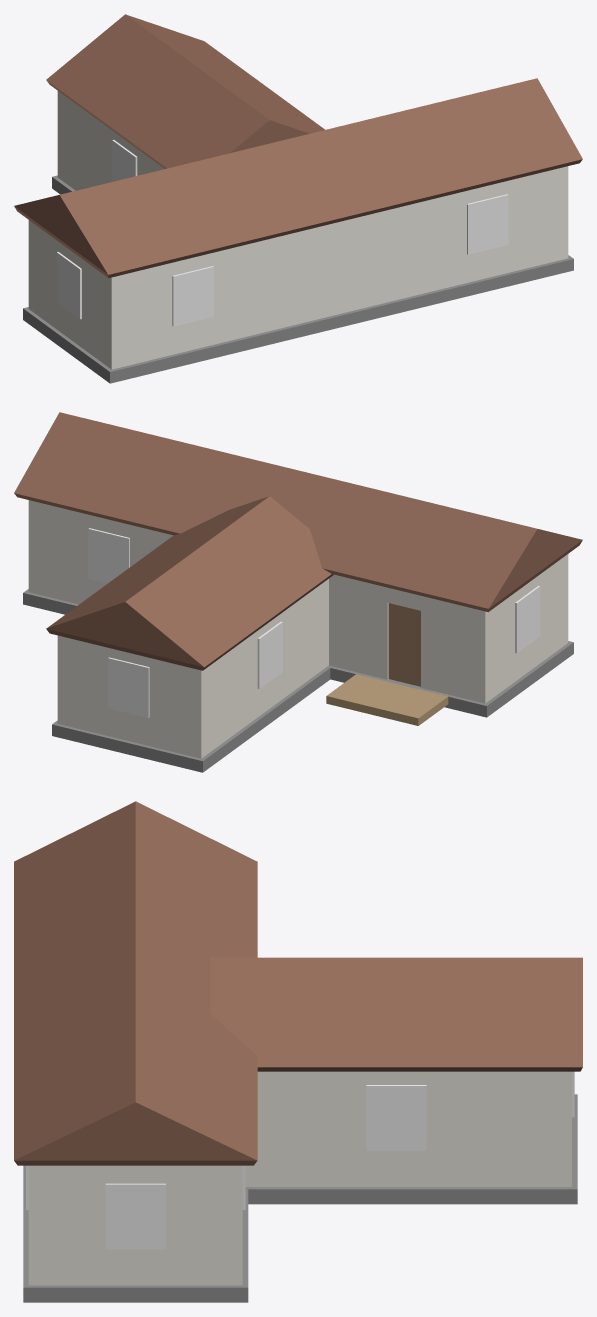
The model's file is t-shaped-model-one-floor.glb.
3 renders of one model, top to bottom at view 1: azimuth 30°, elevation 25°; view 2: azimuth 150°, elevation 25°; view 3: azimuth 270°, elevation 25°, orthographic. The views are drawn at different scales.
Parts seen in each view (by area): view 1: Roof_Horizontal, Back_Wall_Horizontal_F1, Roof_Vertical, Foundation_T_Shaped, Left_End_Horizontal_F1, Left_Wall_Vertical_F1, Window_Horiz_F1_Back_L_Frame, Window_Horiz_F1_Back_R_Frame, Window_Horiz_F1_Left_Frame, Window_Vert_F1_Left_Frame, Right_End_Horizontal_F1; view 2: Roof_Horizontal, Roof_Vertical, Front_Wall_Horizontal_F1, Left_Wall_Vertical_F1, End_Wall_Vertical_F1, Foundation_T_Shaped, Left_End_Horizontal_F1, Terrace, Door_Main, Window_Vert_F1_End_Frame, Window_Horiz_F1_Front_R_Frame, Window_Vert_F1_Left_Frame (+3 smaller); view 3: Roof_Horizontal, Roof_Vertical, Right_Wall_Vertical_F1, Right_End_Horizontal_F1, Foundation_T_Shaped, Window_Horiz_F1_Right_Frame, Window_Vert_F1_Right_Frame, End_Wall_Vertical_F1.
Part boxes in pixels (box(x1,y1,x2,y2)): Roof_Horizontal: box(14, 78, 582, 278); Back_Wall_Horizontal_F1: box(119, 168, 560, 367); Roof_Vertical: box(46, 14, 324, 168); Foundation_T_Shaped: box(23, 175, 573, 383); Left_End_Horizontal_F1: box(28, 220, 118, 369); Left_Wall_Vertical_F1: box(57, 91, 164, 190); Window_Horiz_F1_Back_L_Frame: box(172, 266, 213, 326); Window_Horiz_F1_Back_R_Frame: box(467, 194, 508, 254); Window_Horiz_F1_Left_Frame: box(56, 252, 81, 319); Window_Vert_F1_Left_Frame: box(112, 140, 137, 181); Right_End_Horizontal_F1: box(561, 166, 568, 259); Roof_Horizontal: box(14, 412, 582, 612); Roof_Vertical: box(46, 496, 333, 670); Front_Wall_Horizontal_F1: box(36, 502, 477, 701); Left_Wall_Vertical_F1: box(194, 579, 328, 758); End_Wall_Vertical_F1: box(57, 636, 205, 758); Foundation_T_Shaped: box(23, 589, 573, 772); Left_End_Horizontal_F1: box(478, 554, 568, 703); Terrace: box(326, 674, 448, 725); Door_Main: box(388, 603, 420, 686); Window_Vert_F1_End_Frame: box(108, 657, 149, 717); Window_Horiz_F1_Front_R_Frame: box(88, 528, 129, 583); Window_Vert_F1_Left_Frame: box(257, 621, 282, 688); Roof_Horizontal: box(14, 801, 257, 1165); Roof_Vertical: box(210, 957, 582, 1071); Right_Wall_Vertical_F1: box(245, 1071, 571, 1186); Right_End_Horizontal_F1: box(28, 1165, 242, 1285); Foundation_T_Shaped: box(23, 1094, 577, 1302); Window_Horiz_F1_Right_Frame: box(105, 1183, 165, 1249); Window_Vert_F1_Right_Frame: box(366, 1085, 426, 1150); End_Wall_Vertical_F1: box(561, 1072, 571, 1186).
Size of the model in its own units: 12.98 by 4.12 by 10.37.
